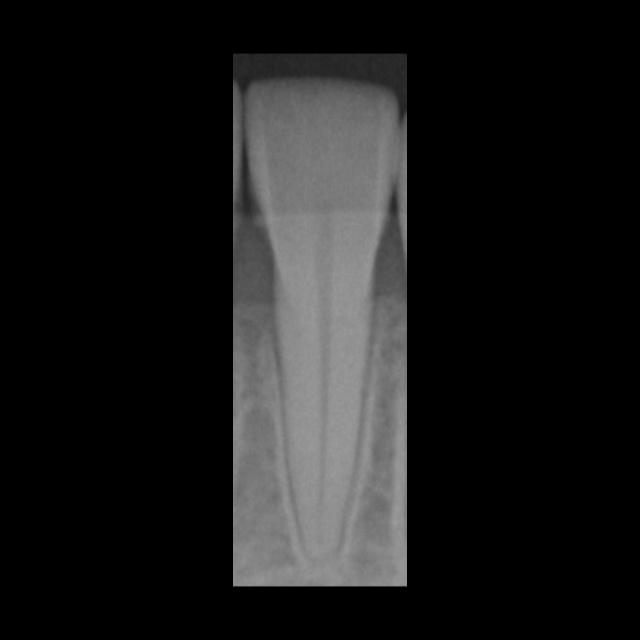tooth: (240, 79, 398, 564)
